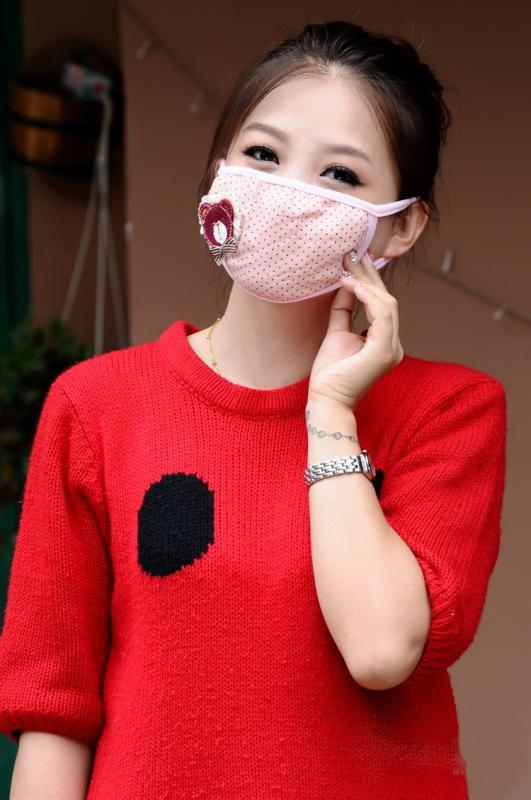OK: (207, 114, 394, 299)
